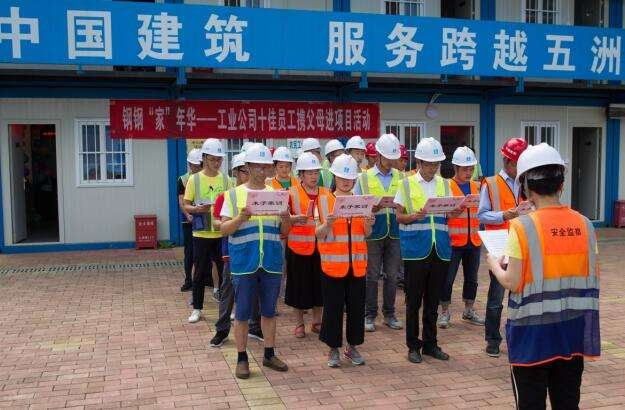red: (501, 136, 528, 177)
white: (516, 144, 570, 207), (412, 137, 445, 177), (244, 144, 274, 185), (331, 153, 358, 193), (373, 133, 400, 169), (452, 146, 476, 181), (296, 152, 320, 187), (201, 136, 224, 172), (272, 147, 294, 178), (345, 134, 366, 165), (232, 155, 250, 182), (187, 147, 204, 172)
